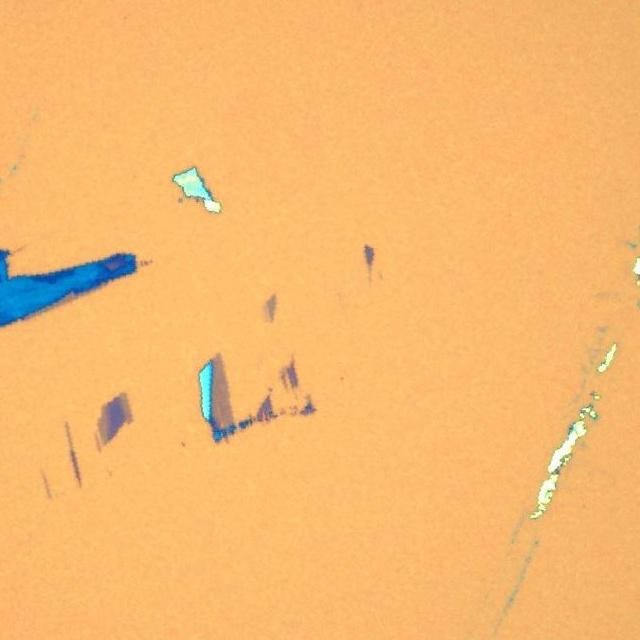monolayer-eWW4: (210, 350, 234, 430), (95, 403, 109, 445), (119, 392, 134, 424), (266, 293, 278, 324)
